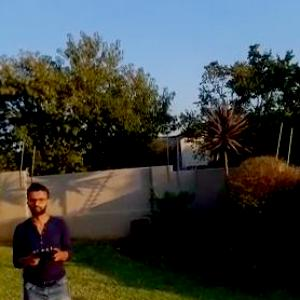follow: (8, 178, 76, 299)
